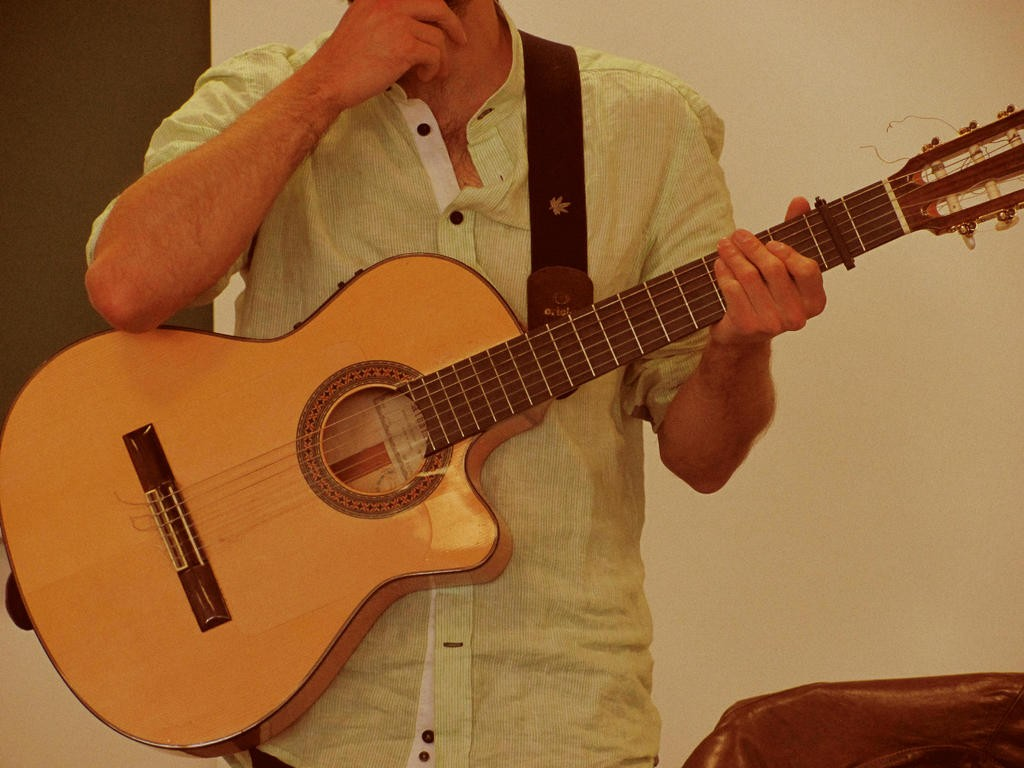guitar: (0, 104, 1024, 758)
